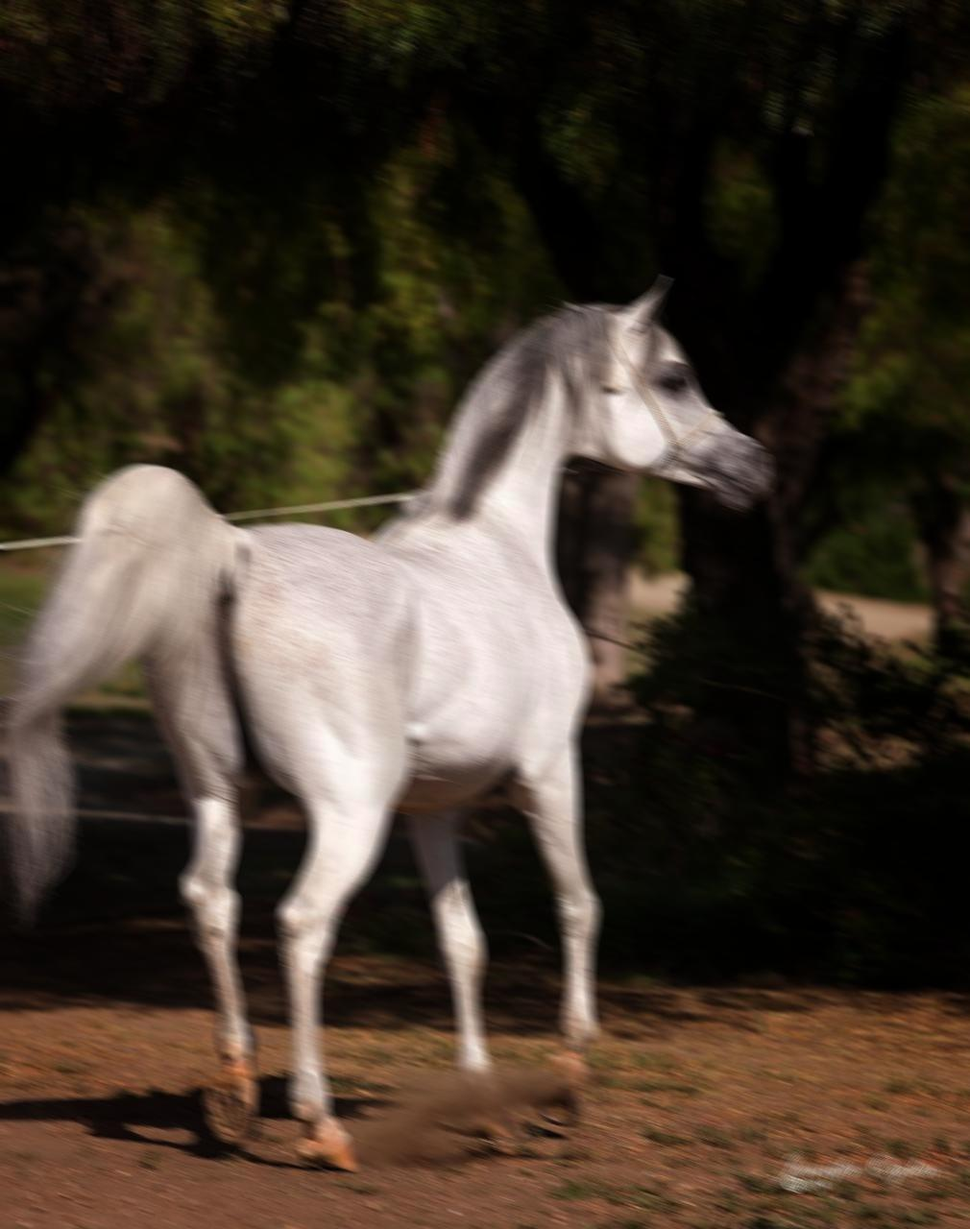horse: (0, 263, 790, 1192)
